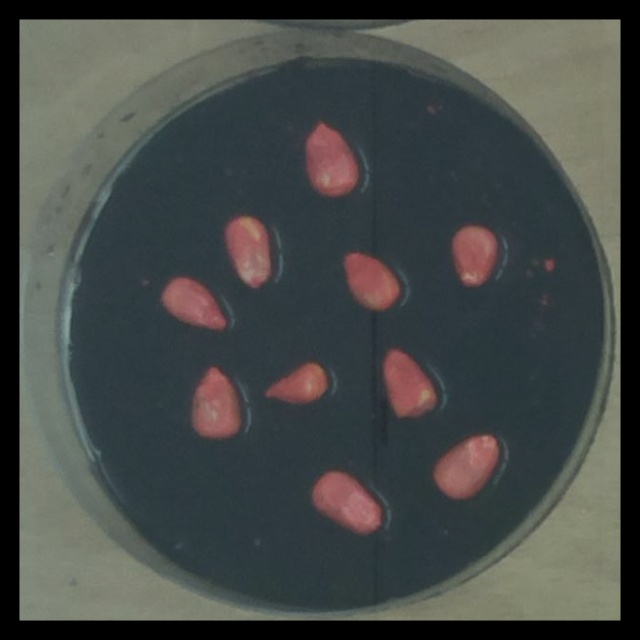Zea mays: (304, 464, 388, 542), (427, 428, 507, 508), (298, 117, 367, 203), (182, 361, 248, 446), (215, 209, 280, 293), (377, 344, 442, 426), (337, 245, 409, 319), (154, 271, 233, 337), (443, 219, 505, 292), (258, 355, 334, 412)
